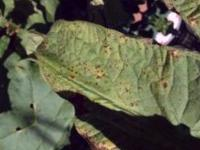Tomato Septoria leaf spot: (18, 0, 200, 150)
